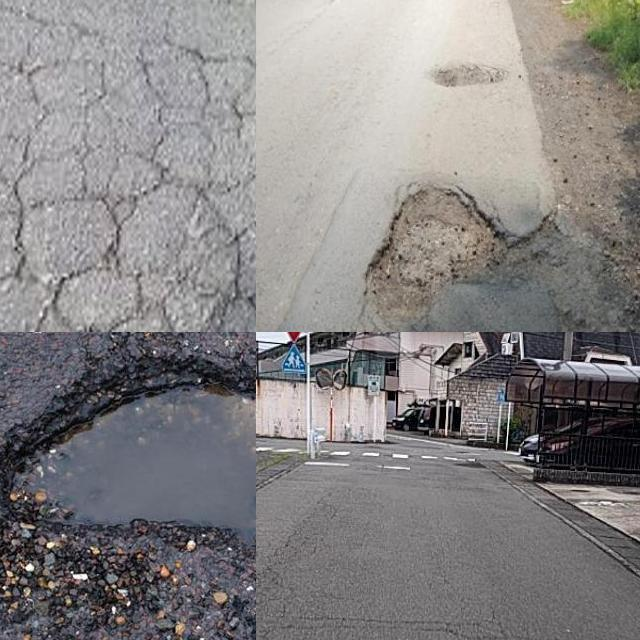Lubang: (0, 365, 256, 560), (362, 184, 547, 332), (432, 57, 505, 90)
Melintang: (306, 607, 640, 640)
Retak Buaya: (0, 3, 256, 332)
